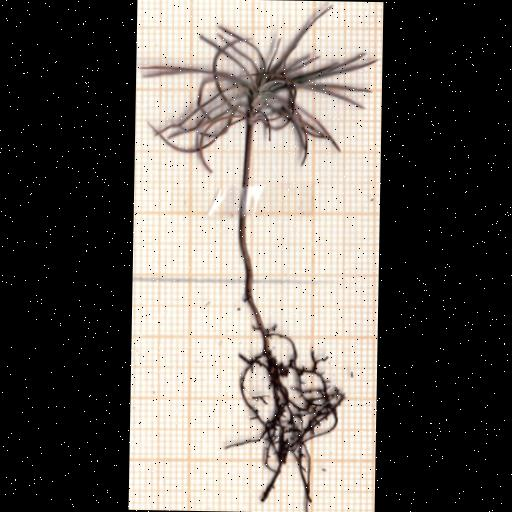flowerCedr: (145, 7, 376, 172)
rootCedr: (226, 325, 346, 512)
stemCedr: (238, 121, 255, 308)
